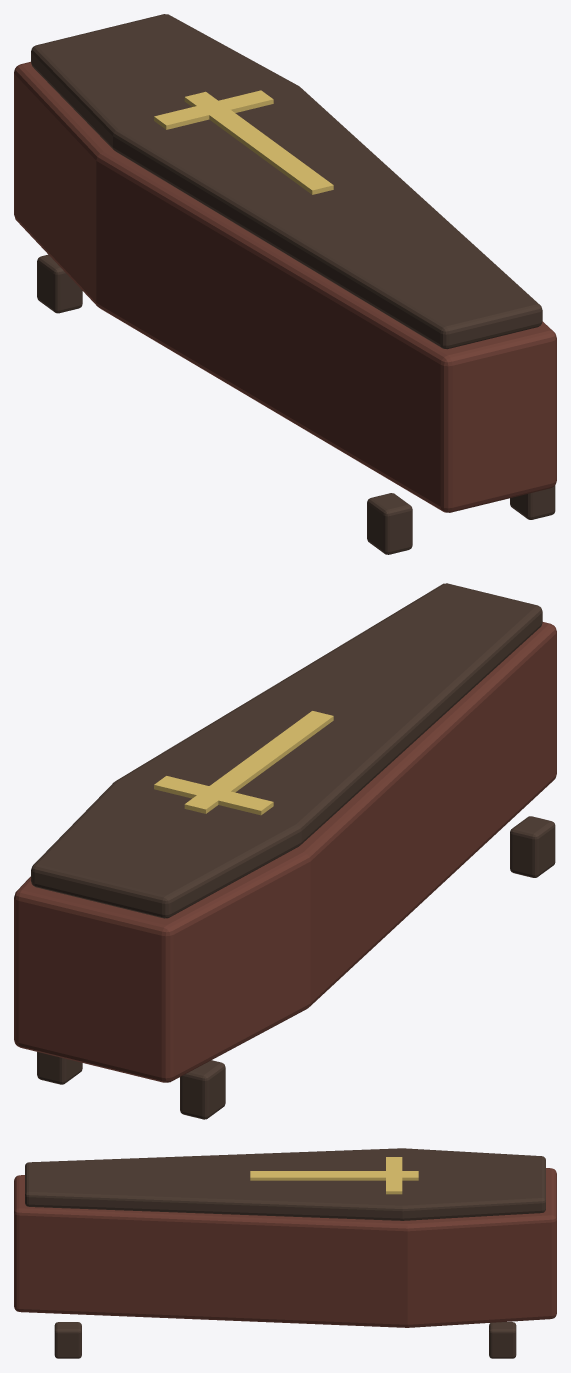
Rendered from coffin_plain.glb.
3 views of the same model, one above another, from view 1: azimuth 30°, elevation 25°; view 2: azimuth 150°, elevation 25°; view 3: azimuth 270°, elevation 25° (orthographic). The views are drawn at different scales.
Visible parts, largest first — view 1: GD_coffin_plain__m0, GD_coffin_plain__m1, GD_coffin_plain__m2; view 2: GD_coffin_plain__m0, GD_coffin_plain__m1, GD_coffin_plain__m2; view 3: GD_coffin_plain__m0, GD_coffin_plain__m1, GD_coffin_plain__m2.
Boxes of the visible parts, bbox=[...] form: GD_coffin_plain__m0: bbox=[14, 61, 556, 512]; GD_coffin_plain__m1: bbox=[31, 14, 555, 554]; GD_coffin_plain__m2: bbox=[154, 90, 333, 194]; GD_coffin_plain__m0: bbox=[14, 622, 556, 1082]; GD_coffin_plain__m1: bbox=[31, 583, 555, 1119]; GD_coffin_plain__m2: bbox=[154, 711, 333, 815]; GD_coffin_plain__m0: bbox=[14, 1168, 556, 1327]; GD_coffin_plain__m1: bbox=[25, 1148, 545, 1358]; GD_coffin_plain__m2: bbox=[250, 1157, 418, 1194].
Bounding box in the file's own units: 0.6 × 0.642 × 2.
